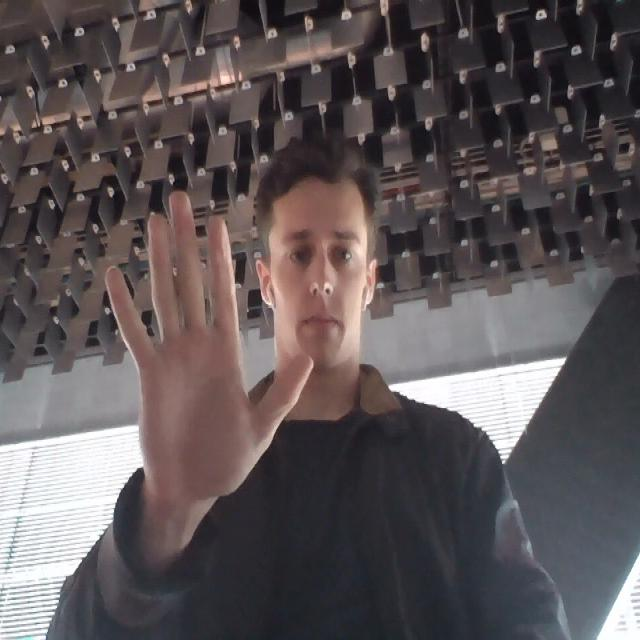backward: (93, 186, 330, 518)
